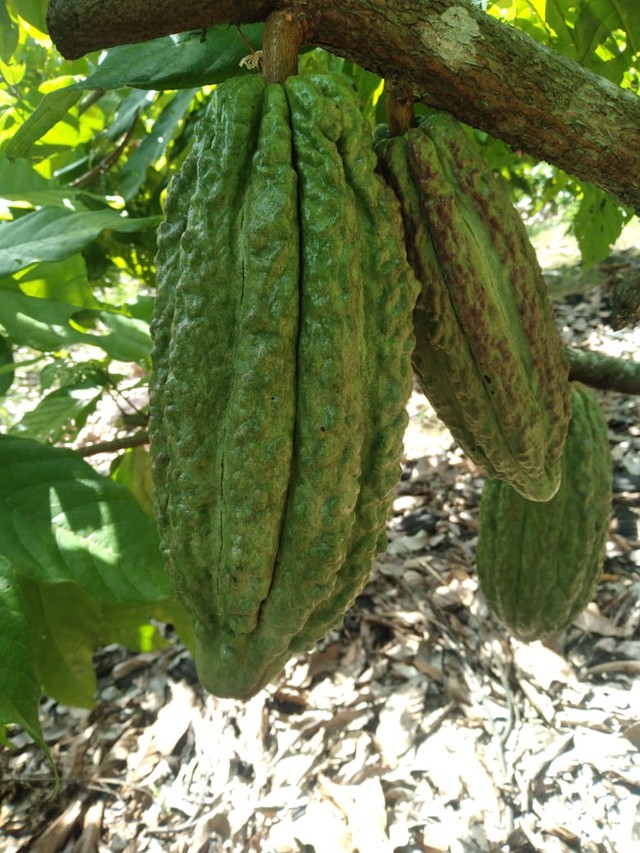Health: (102, 39, 439, 727)
